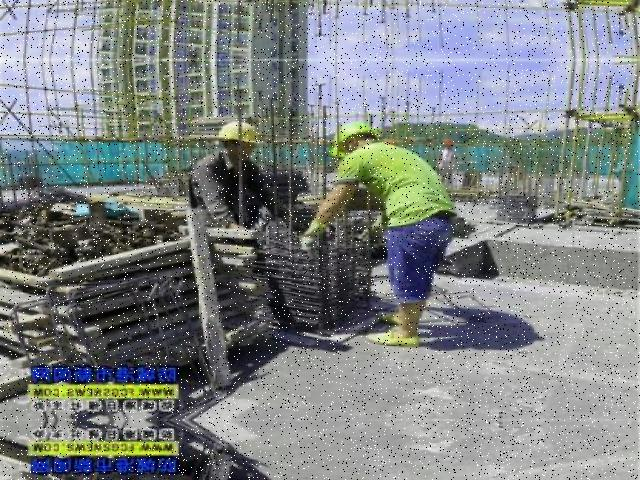Helmet: (328, 117, 384, 158), (212, 116, 272, 148)
